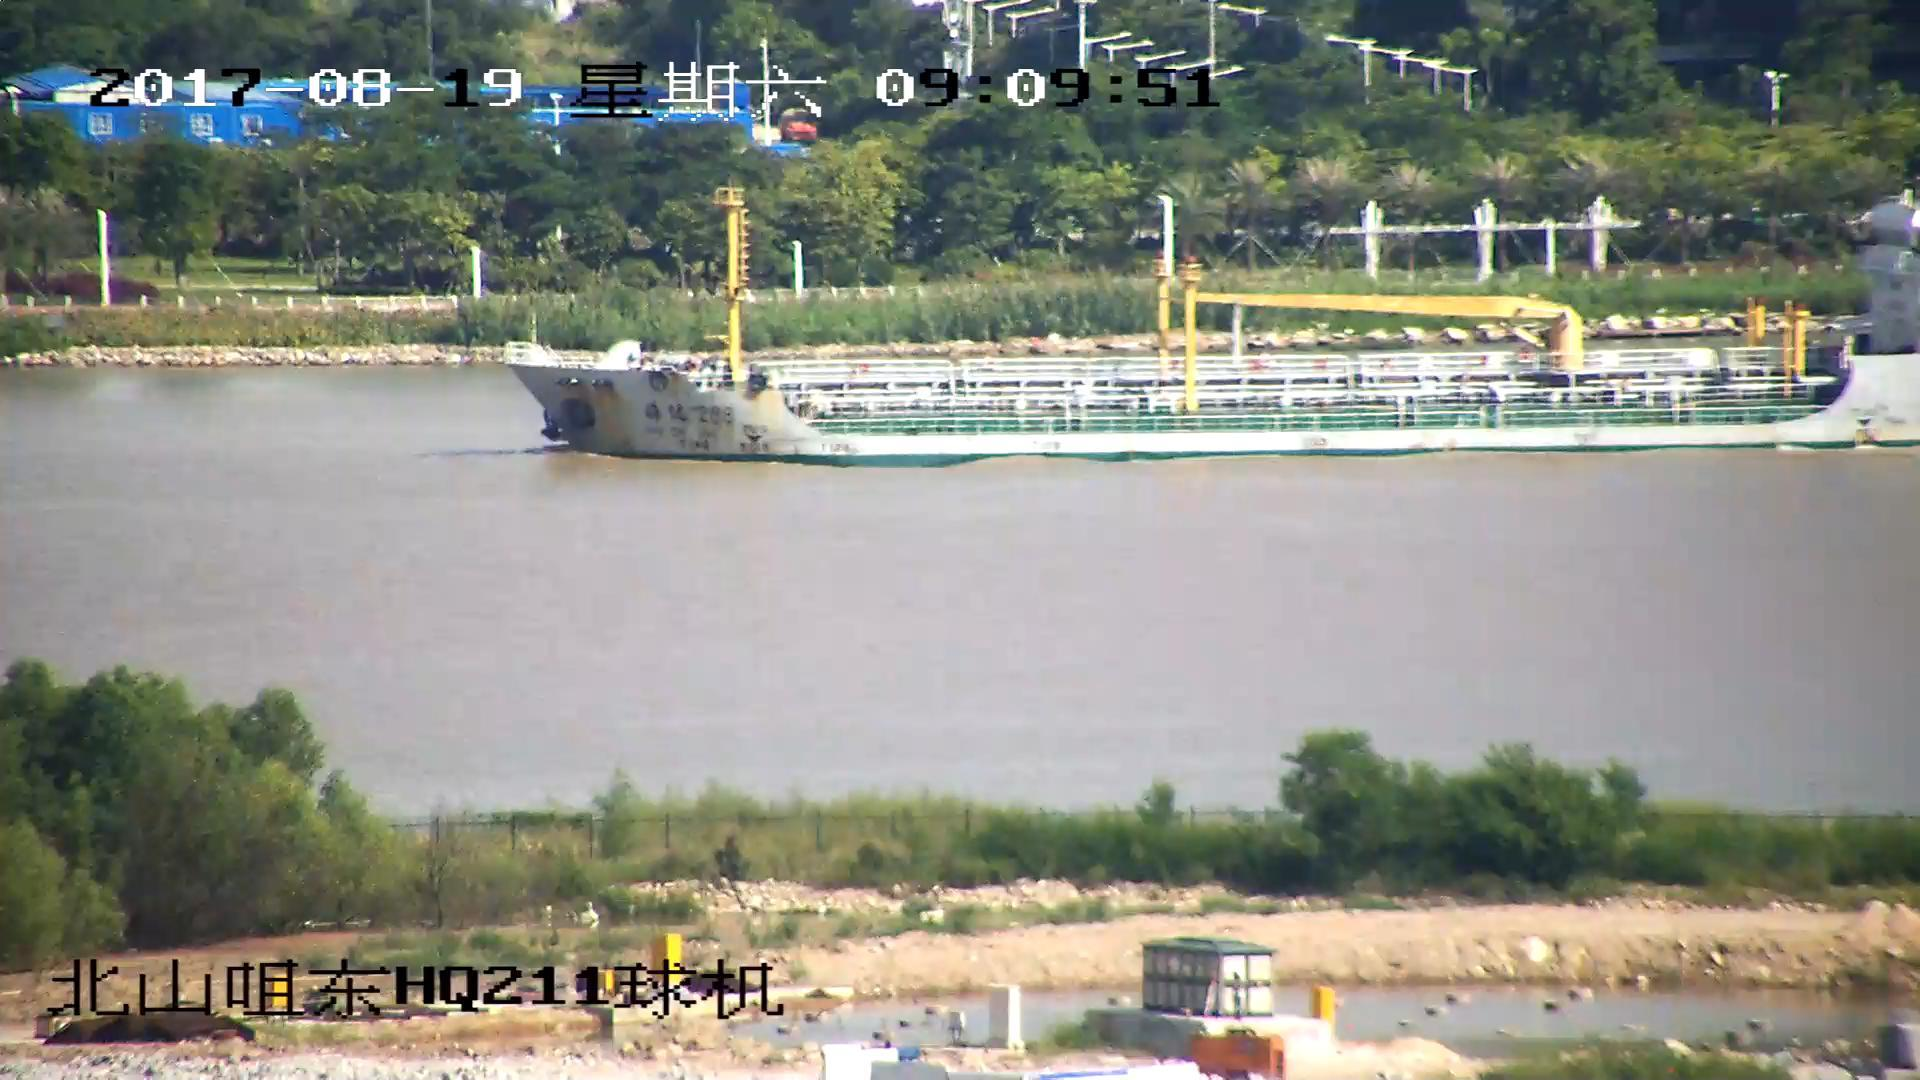Ship: (504, 211, 1920, 456)
